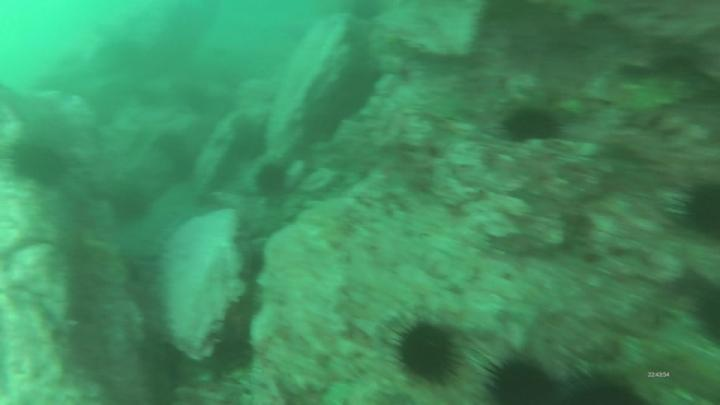echinus: (390, 314, 468, 388), (476, 351, 566, 405), (560, 365, 655, 405), (675, 173, 720, 248), (6, 138, 69, 188), (499, 107, 565, 149), (687, 279, 720, 348), (230, 123, 270, 166), (113, 189, 155, 228), (255, 164, 293, 201)
